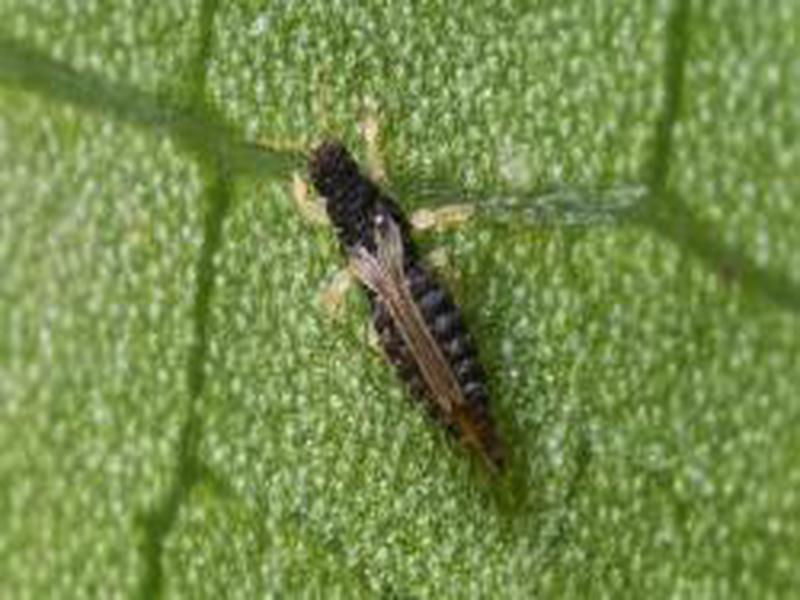Thrips: (283, 124, 517, 470)
